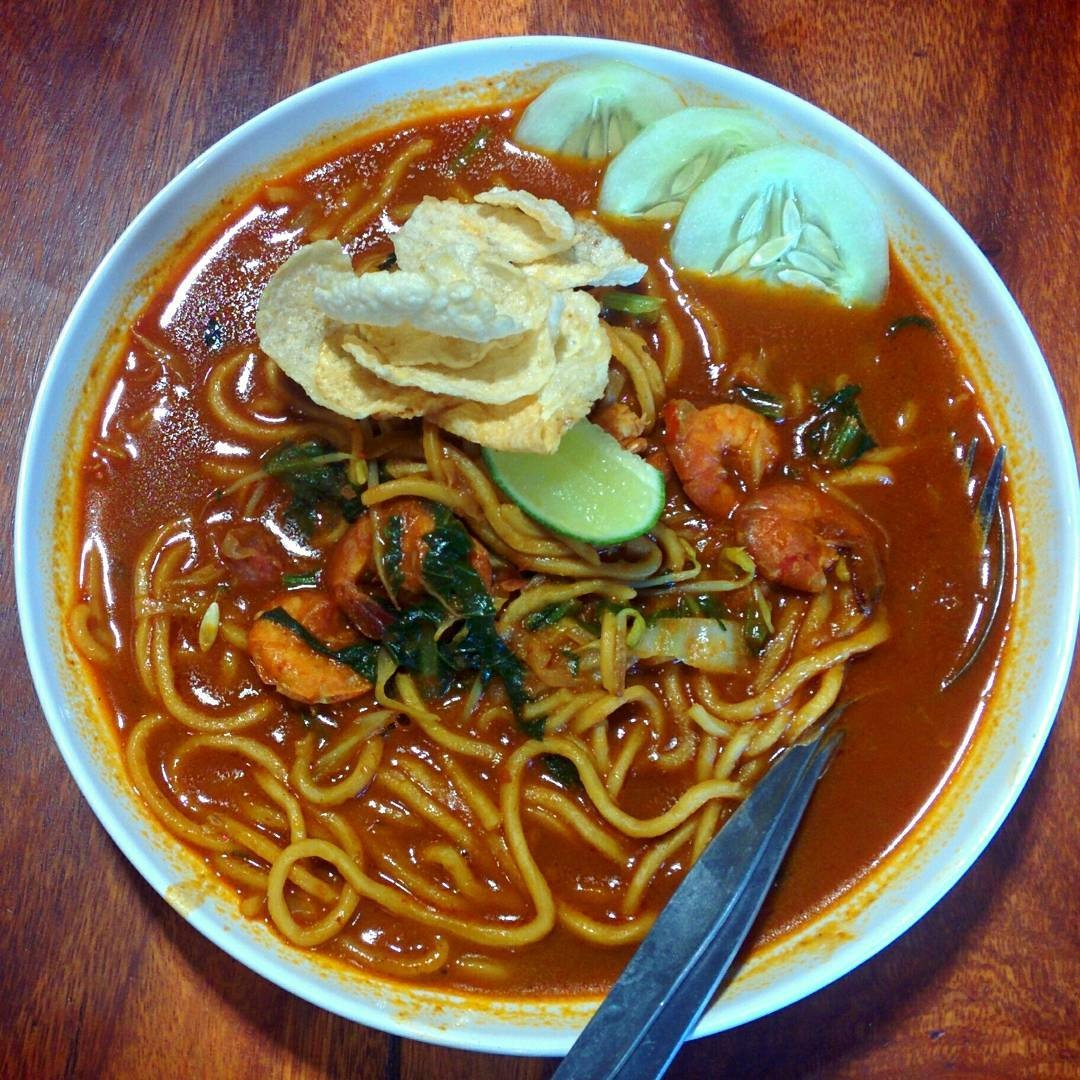mie_aceh: (90, 189, 992, 999)
